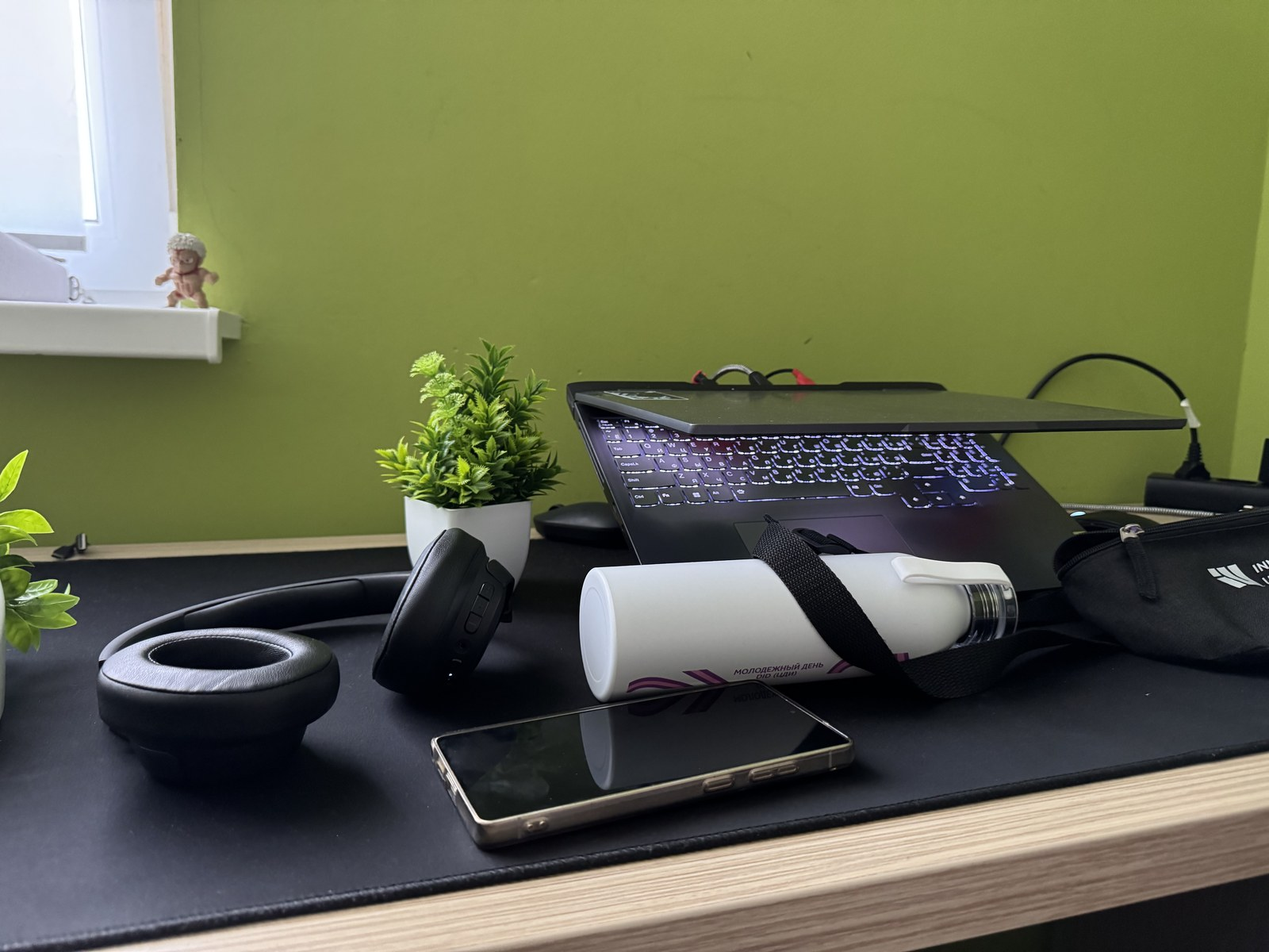cell phone: (429, 678, 855, 850)
laptop: (566, 380, 1187, 595)
